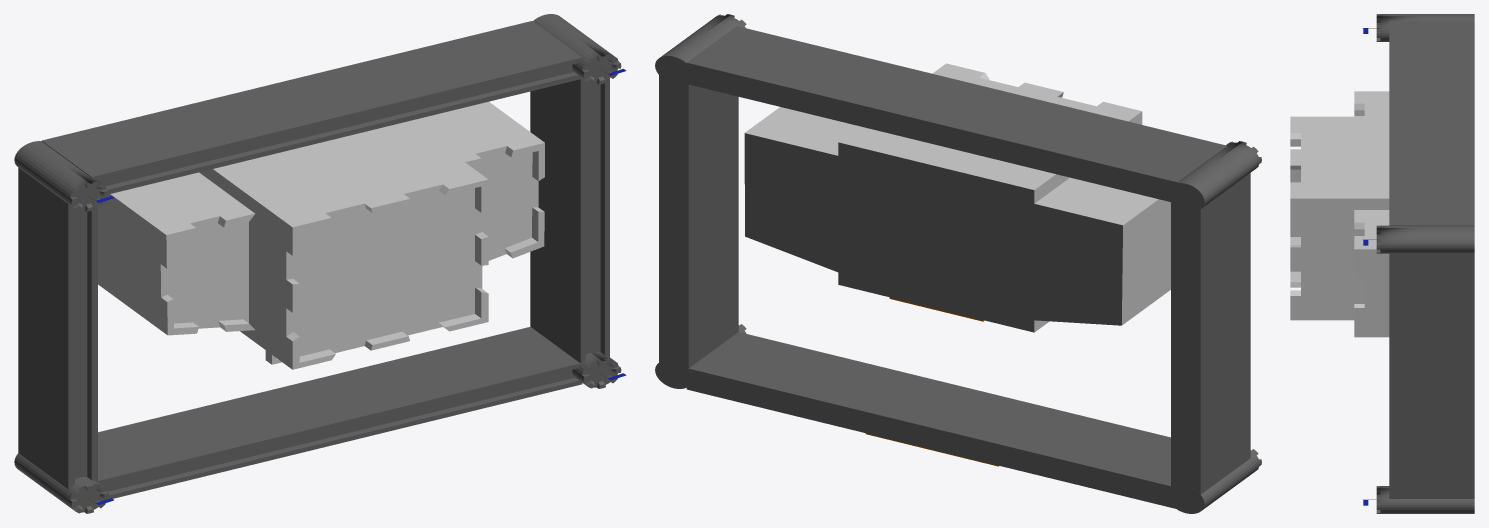
Rendered from ТХ_5Origin.fbx.
3 views of the same model, side by side, from view 1: azimuth 30°, elevation 25°; view 2: azimuth 150°, elevation 25°; view 3: azimuth 270°, elevation 25° (orthographic). The views are drawn at different scales.
Visible parts, largest first — view 1: ТХ_5; view 2: ТХ_5; view 3: ТХ_5.
Boxes of the visible parts, x1,y1,x2,y2 form: ТХ_5: [14, 14, 626, 513]; ТХ_5: [655, 14, 1261, 513]; ТХ_5: [1290, 14, 1474, 513].
Size of the model in its own units: 9.85 by 5.68 by 3.35.
